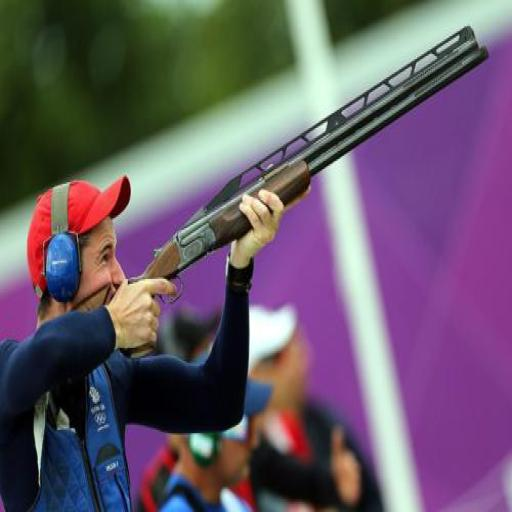shooting: (1, 172, 286, 510)
